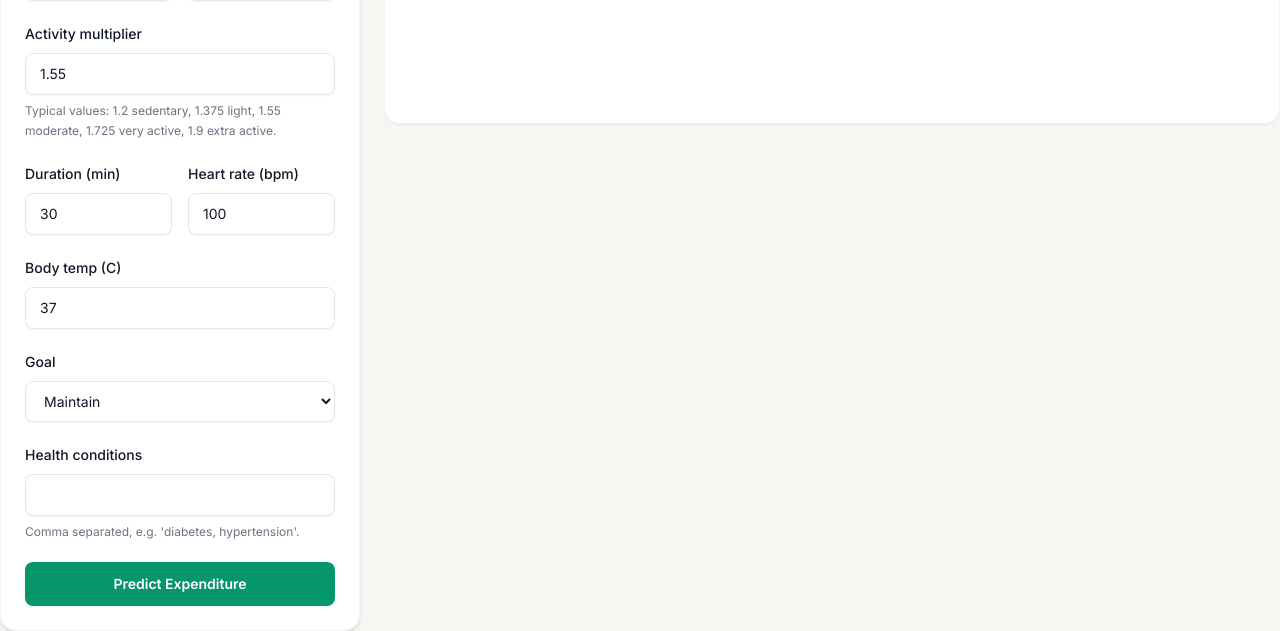
Test case: CaloriesTab error text › shows its own fallback sentence when the backend is unreachable
The width and height of the screenshot is (1280, 631).
(page scrolled)
Click the button "Predict Expenditure": x=180, y=584 [25,562,335,606]
(page scrolled)
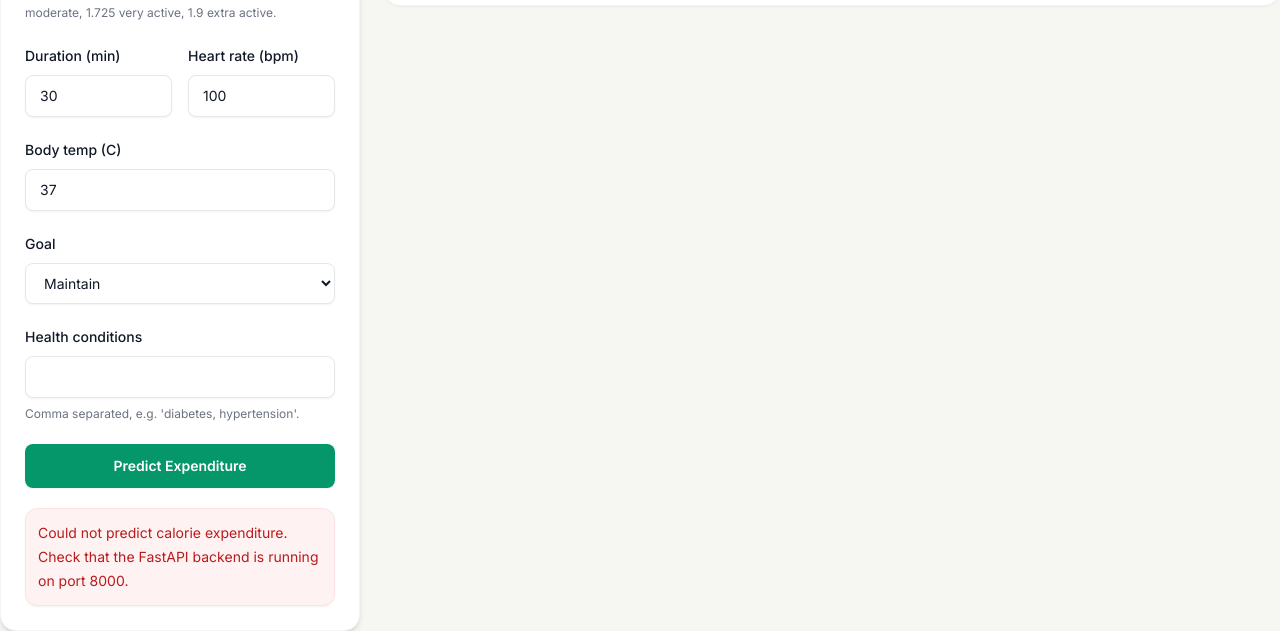
Check: the text "Could not predict calorie expenditure. Check that the FastAPI backend is running on port 8000." is shown, box [38,524,318,589]
